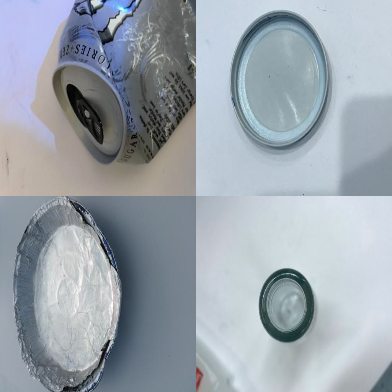glass: (258, 268, 316, 342)
metal: (51, 1, 194, 164), (12, 197, 122, 390), (232, 11, 331, 150)
